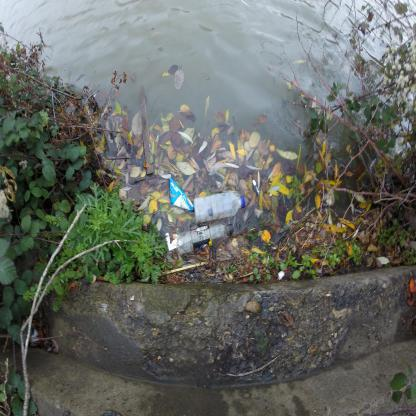plastik: (178, 225, 236, 256), (195, 192, 247, 226), (170, 178, 195, 212)
